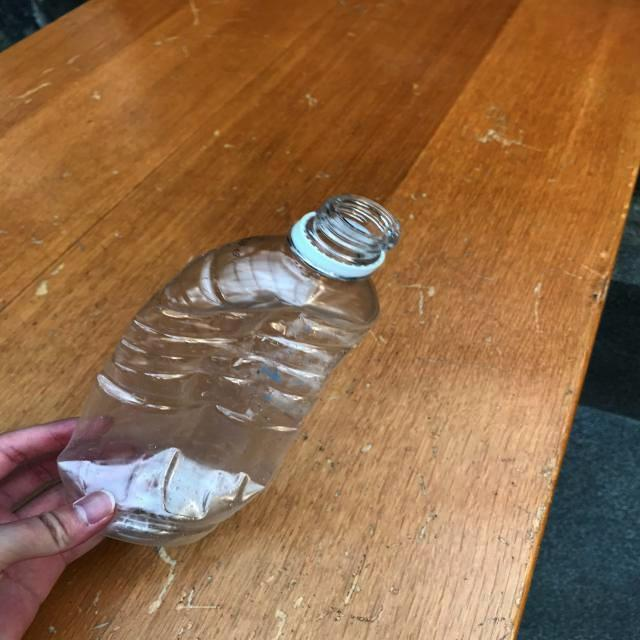bottle: (56, 193, 401, 547)
